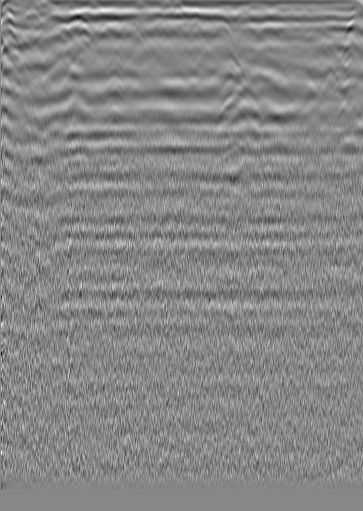가스: (226, 154, 262, 187)
상수: (307, 22, 327, 42)
오수: (20, 6, 40, 26)
우수: (153, 17, 173, 37)
